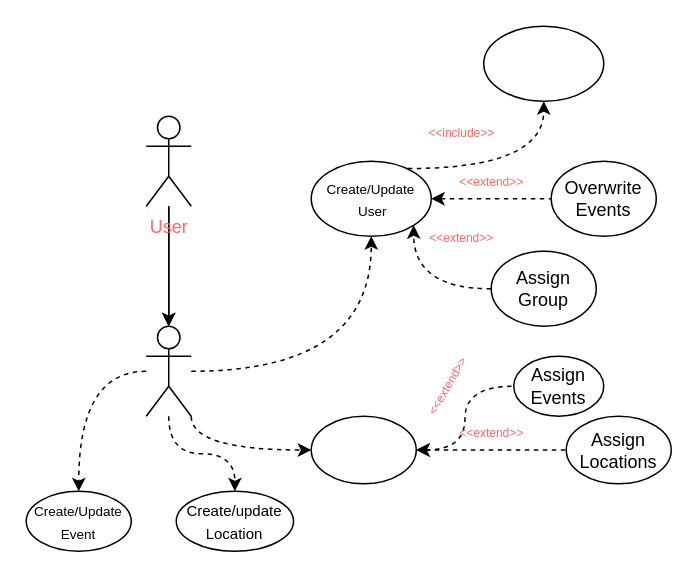
This 698x578 diagram has some shape labels left out. Here are the shapes that lost their labels. From the top down, the centre of each, then its label:
the point at 543,63: Assign Schedule
the point at 168,370: Admin
the point at 363,449: Create/Update Group
